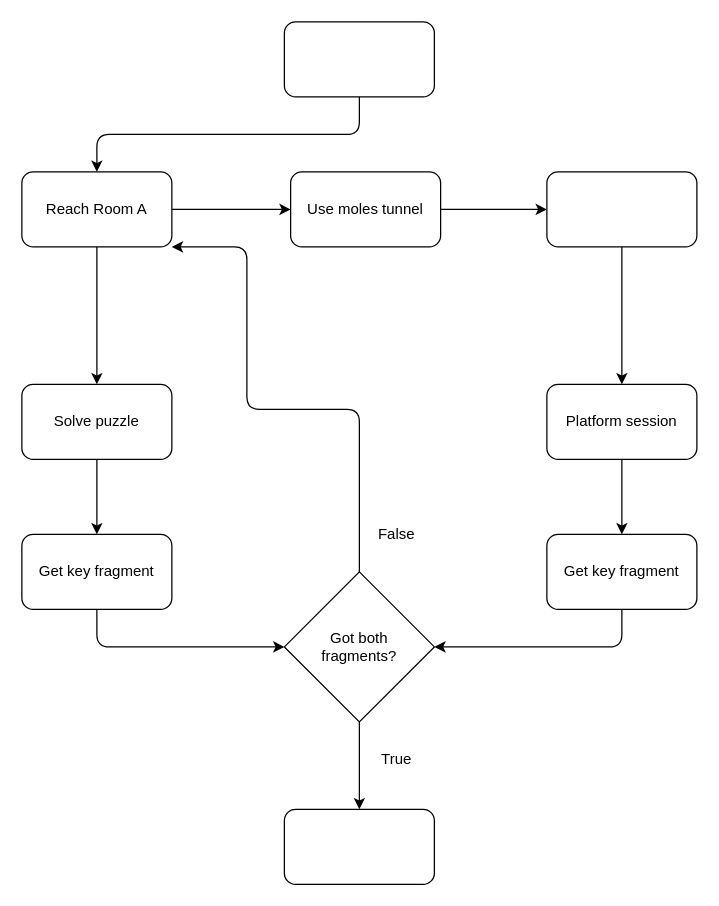
The diagram is 719 pixels wide and 906 high, and some of its shapes have lost their labels. Here are the shapes that lost their labels. From the top down, the centre of each, then its label:
[358,59]: Enter Seciton A
[621,209]: Reach Room B
[358,846]: Open door & Enter Section B
